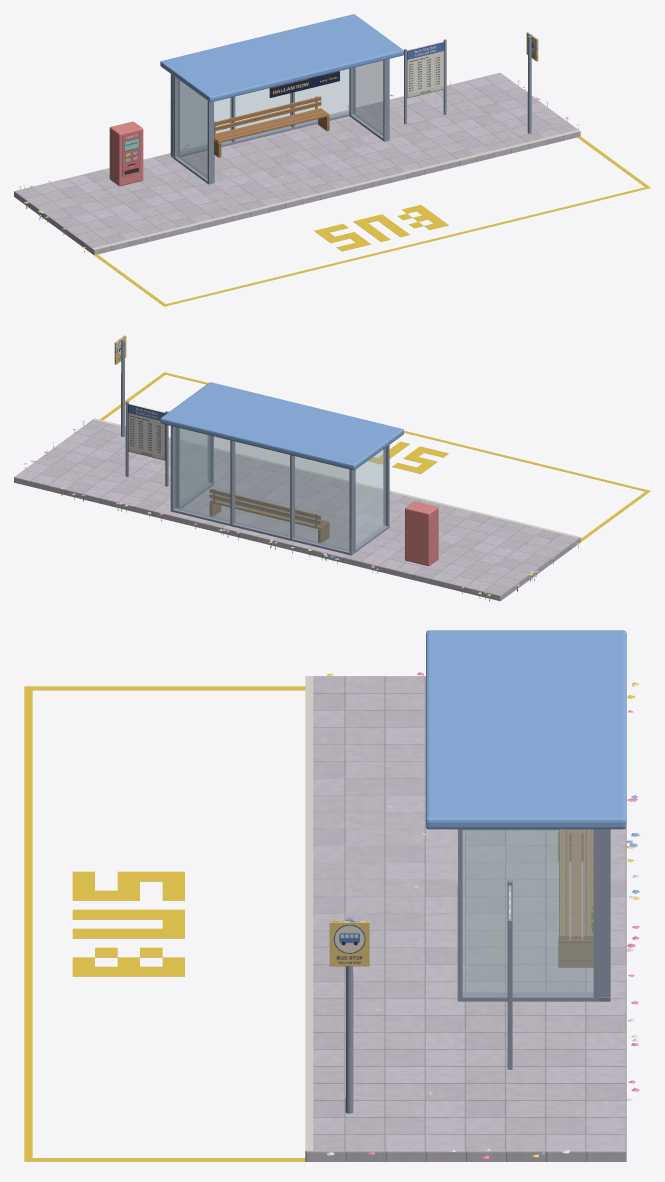
File: bus_station.glb
3 renders of one model, top to bottom at view 1: azimuth 30°, elevation 25°; view 2: azimuth 150°, elevation 25°; view 3: azimuth 270°, elevation 25°, orthographic. The views are drawn at different scales.
Visible parts, largest first — view 1: Paving, Roof_Blue, Glass, Steel, Line_Yellow, Deck, Timetable_Print, Paint_White, Plastic_Coral, Ticket_Face, Sign_Dest; view 2: Paving, Glass, Roof_Blue, Steel, Line_Yellow, Plastic_Coral, Deck, Timetable_Print, Paint_White; view 3: Paving, Roof_Blue, Glass, Line_Yellow, Steel, Deck, Paint_White, Sign_Bus.
Part boxes in pixels (x1,y1,x2,y2): Paving: [14, 72, 580, 254]; Roof_Blue: [160, 14, 403, 102]; Glass: [177, 60, 383, 178]; Steel: [170, 35, 531, 184]; Line_Yellow: [94, 136, 650, 306]; Deck: [214, 96, 329, 157]; Timetable_Print: [407, 41, 444, 98]; Paint_White: [92, 122, 580, 249]; Plastic_Coral: [109, 121, 143, 186]; Ticket_Face: [122, 131, 140, 177]; Sign_Dest: [269, 71, 339, 97]; Paving: [14, 420, 580, 601]; Glass: [174, 427, 385, 551]; Roof_Blue: [160, 382, 403, 470]; Steel: [121, 339, 389, 555]; Line_Yellow: [100, 372, 650, 541]; Plastic_Coral: [405, 501, 438, 565]; Deck: [209, 488, 329, 543]; Timetable_Print: [128, 404, 165, 460]; Paint_White: [92, 418, 580, 551]; Paving: [305, 676, 626, 1161]; Roof_Blue: [426, 630, 626, 829]; Glass: [462, 829, 593, 994]; Line_Yellow: [24, 686, 305, 1161]; Steel: [345, 829, 610, 1113]; Deck: [558, 829, 593, 967]; Paint_White: [305, 676, 432, 1150]; Sign_Bus: [329, 921, 369, 966].
Size of the model in its own units: 14.33 by 2.82 by 7.67.
Materials: 18 (6 with a texture image).
